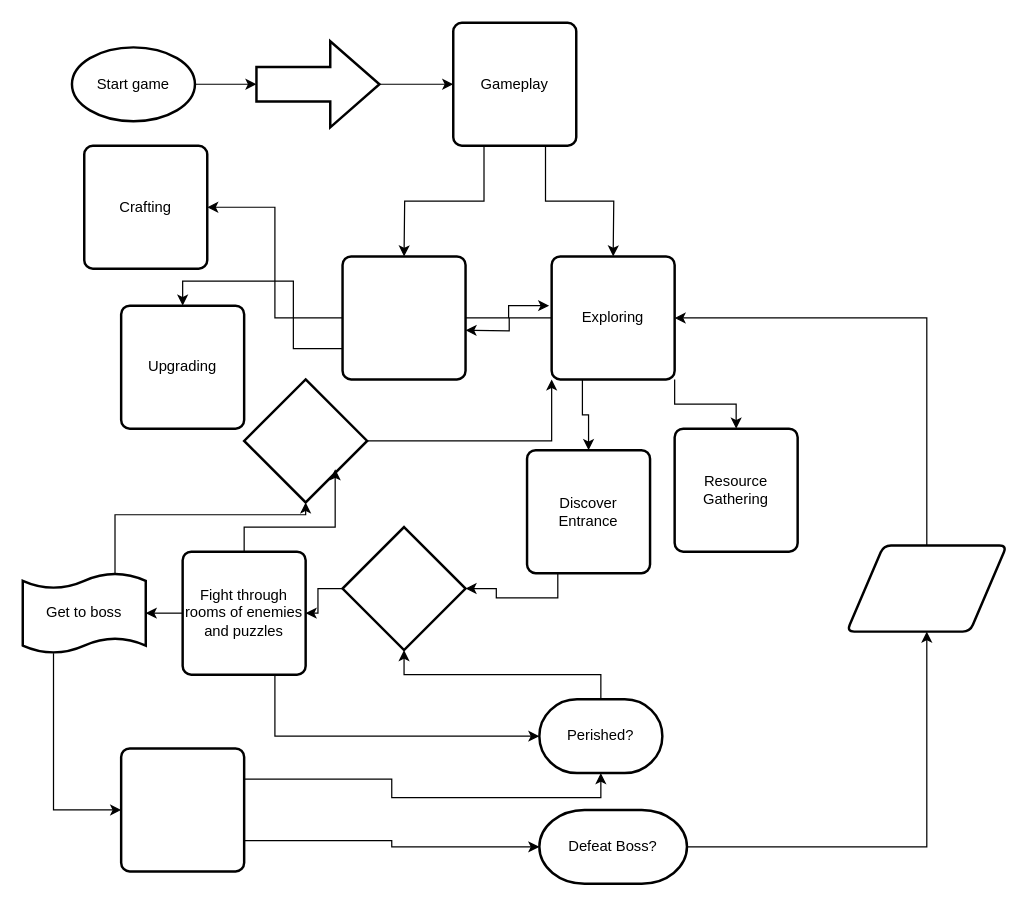
The diagram is 1028 pixels wide and 905 high, and some of its shapes have lost their labels. The shapes that lost their labels are listed below. From the top down, each one's centre as x and y in pixels, then its label:
At point 317,83: "Intro Sequence".
At point 403,317: "Base".
At point 305,440: "Leave Dungeon".
At point 403,588: "Enter Dungeon".
At point 926,588: "Get loot/resources".
At point 182,809: "Fight Boss".
